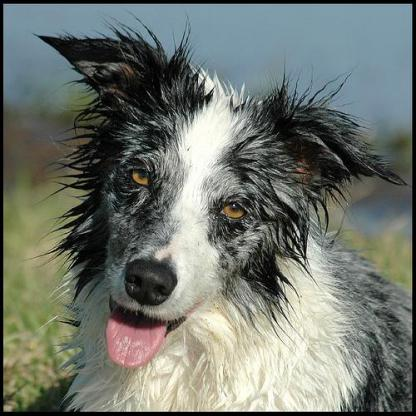Border_collie: (26, 8, 414, 414)
